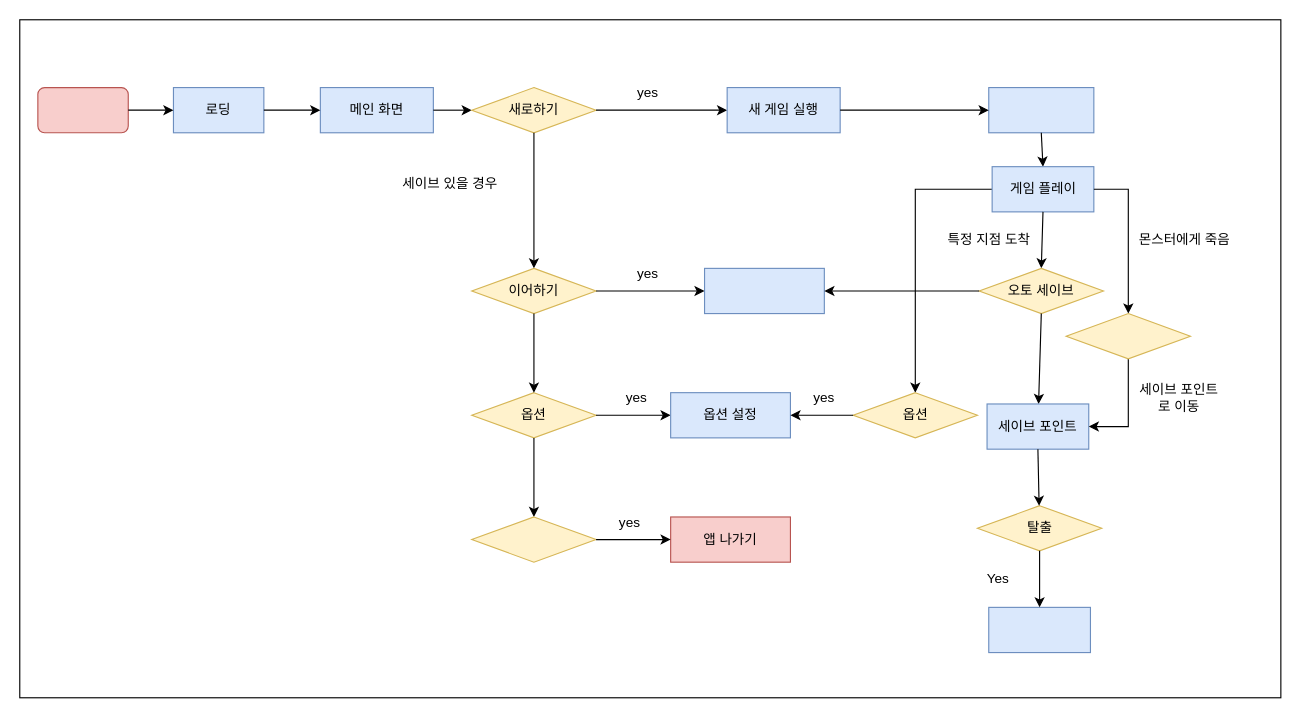
Some shapes in this 1301 by 718 pixel diagram are drawn without their labels. Each missing label, with the centre of its shape:
게임 시작: point 82,109
게임 오버: point 1127,335
기존 게임 불러오기: point 763,290
나가기: point 533,539
인트로 영상: point 1041,109
클리어: point 1039,629
